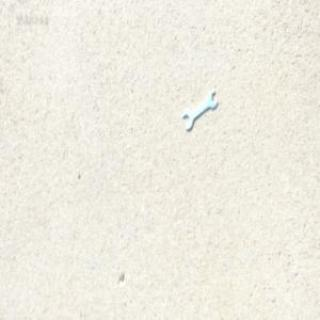Wrenchtrack_idkeyframe: (182, 90, 215, 129)
